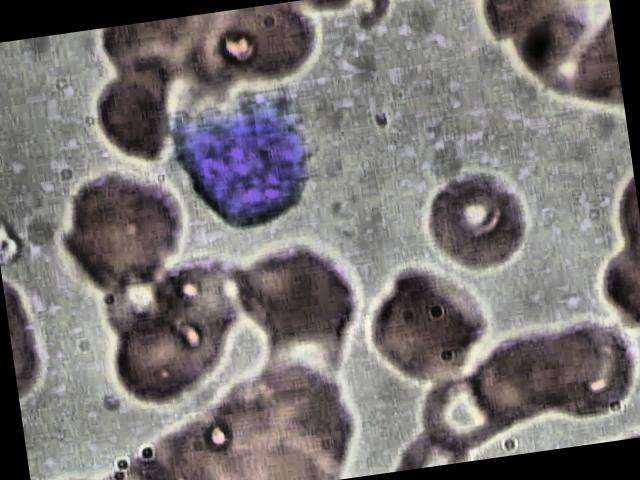RBC: (42, 160, 196, 299), (222, 226, 364, 358), (359, 255, 500, 386), (414, 162, 541, 276), (528, 316, 640, 426), (101, 308, 210, 406), (214, 0, 322, 98), (76, 68, 184, 166), (414, 366, 499, 456)
WBC: (139, 76, 331, 242)
